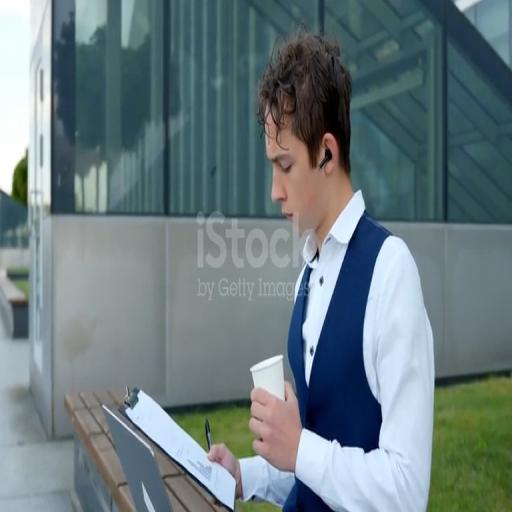earphone: (318, 148, 333, 175)
